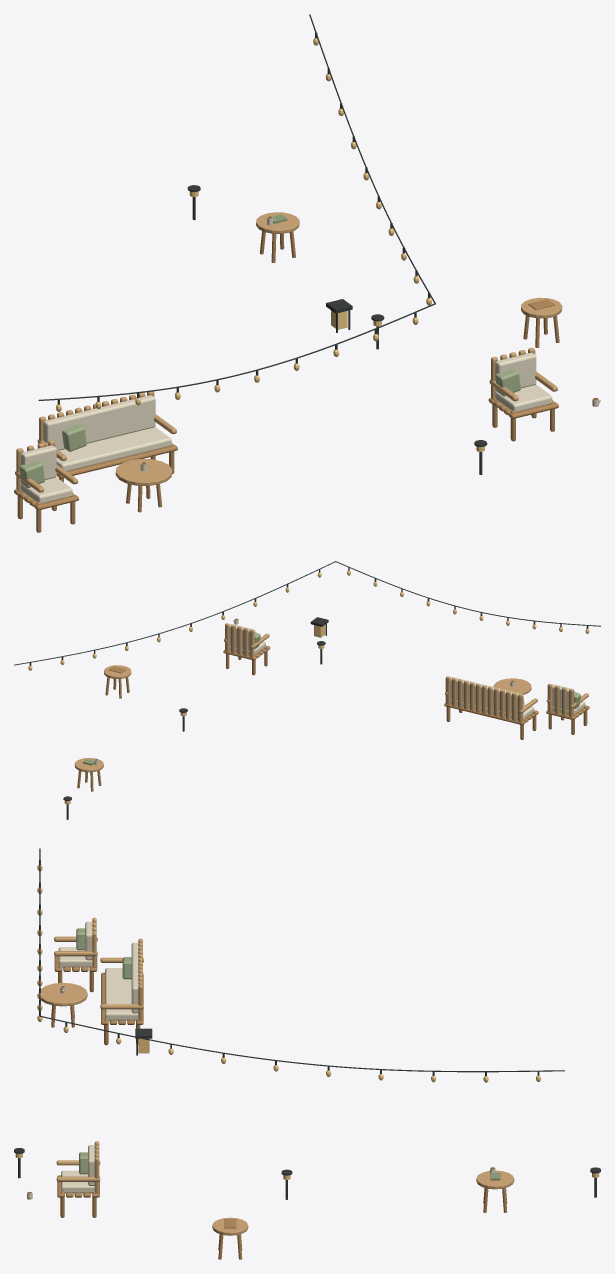
Rendered from SM_RelaxedNeighborHouse_Props.fbx.
The picture shows the model from 3 angles, top to bottom: view 1: azimuth 30°, elevation 25°; view 2: azimuth 150°, elevation 25°; view 3: azimuth 270°, elevation 25°; orthographic projection. The views are drawn at different scales.
Parts seen in each view (by area): view 1: SM_RelaxedNeighborHouse_Props; view 2: SM_RelaxedNeighborHouse_Props; view 3: SM_RelaxedNeighborHouse_Props.
Part boxes in pixels (bbox=[...]): SM_RelaxedNeighborHouse_Props: bbox=[14, 14, 600, 532]; SM_RelaxedNeighborHouse_Props: bbox=[14, 561, 600, 819]; SM_RelaxedNeighborHouse_Props: bbox=[14, 848, 600, 1259].
Size of what is drawn, in the model's own units: 1225 by 1141 by 361.
